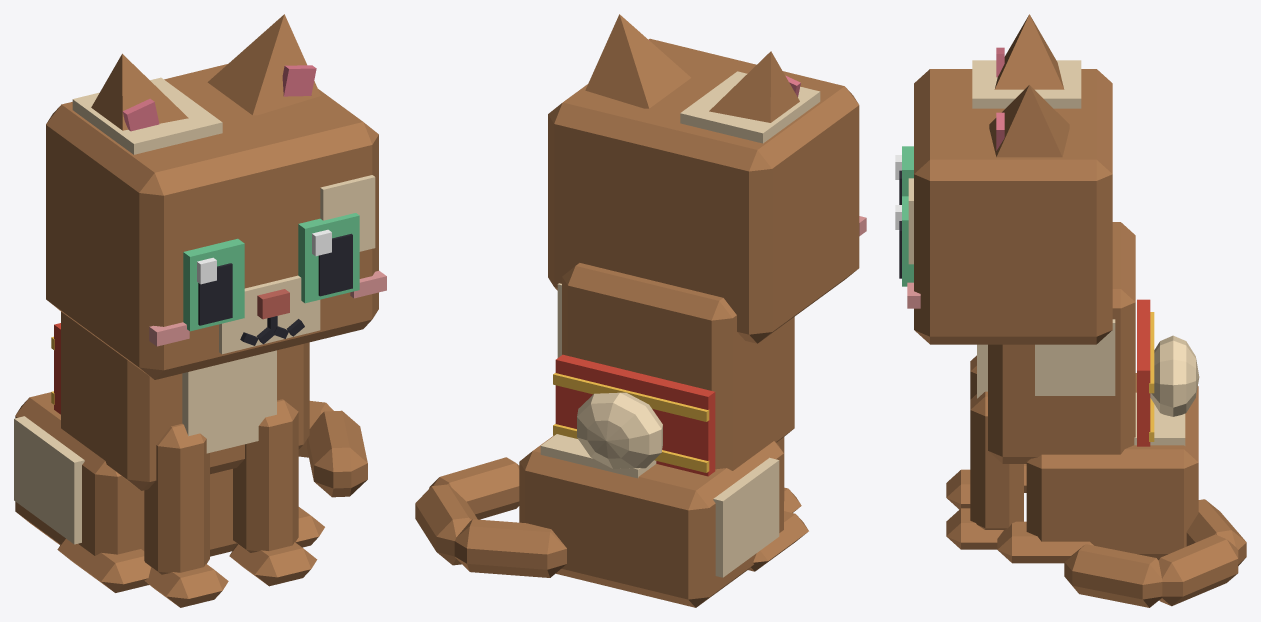
Rendered from CatCafe_Cat_Camel_Sit.glb.
3 renders of one model, left to right at view 1: azimuth 30°, elevation 25°; view 2: azimuth 150°, elevation 25°; view 3: azimuth 270°, elevation 25°, orthographic. The views are drawn at different scales.
Visible parts, largest first — view 1: CatCafe_Cat_Camel_Sit_Head, CatCafe_Cat_Camel_Sit_Body, CatCafe_Cat_Camel_Sit_LegF2, CatCafe_Cat_Camel_Sit_LegF1, CatCafe_Cat_Camel_Sit_EarL, CatCafe_Cat_Camel_Sit_Eye2, CatCafe_Cat_Camel_Sit_Eye1, CatCafe_Cat_Camel_Sit_Tail, CatCafe_Cat_Camel_Sit_EarR, CatCafe_Cat_Camel_Sit_Prop; view 2: CatCafe_Cat_Camel_Sit_Head, CatCafe_Cat_Camel_Sit_Body, CatCafe_Cat_Camel_Sit_Prop, CatCafe_Cat_Camel_Sit_Tail, CatCafe_Cat_Camel_Sit_EarL, CatCafe_Cat_Camel_Sit_EarR; view 3: CatCafe_Cat_Camel_Sit_Head, CatCafe_Cat_Camel_Sit_Body, CatCafe_Cat_Camel_Sit_Tail, CatCafe_Cat_Camel_Sit_LegF1, CatCafe_Cat_Camel_Sit_Prop, CatCafe_Cat_Camel_Sit_EarL, CatCafe_Cat_Camel_Sit_EarR, CatCafe_Cat_Camel_Sit_LegF2, CatCafe_Cat_Camel_Sit_Eye1, CatCafe_Cat_Camel_Sit_Eye2.
Part boxes in pixels (x1,y1,x2,y2): CatCafe_Cat_Camel_Sit_Head: (46, 64, 386, 379); CatCafe_Cat_Camel_Sit_Body: (14, 312, 324, 592); CatCafe_Cat_Camel_Sit_LegF2: (144, 423, 228, 607); CatCafe_Cat_Camel_Sit_LegF1: (229, 399, 317, 586); CatCafe_Cat_Camel_Sit_EarL: (207, 14, 320, 115); CatCafe_Cat_Camel_Sit_Eye2: (183, 238, 244, 331); CatCafe_Cat_Camel_Sit_Eye1: (298, 213, 359, 303); CatCafe_Cat_Camel_Sit_Tail: (298, 401, 367, 497); CatCafe_Cat_Camel_Sit_EarR: (91, 53, 188, 131); CatCafe_Cat_Camel_Sit_Prop: (51, 323, 60, 414); CatCafe_Cat_Camel_Sit_Head: (548, 38, 866, 343); CatCafe_Cat_Camel_Sit_Body: (519, 263, 808, 607); CatCafe_Cat_Camel_Sit_Prop: (553, 354, 715, 476); CatCafe_Cat_Camel_Sit_Tail: (415, 457, 566, 577); CatCafe_Cat_Camel_Sit_EarL: (585, 14, 690, 108); CatCafe_Cat_Camel_Sit_EarR: (709, 51, 800, 122); CatCafe_Cat_Camel_Sit_Head: (907, 60, 1112, 344); CatCafe_Cat_Camel_Sit_Body: (977, 222, 1198, 563); CatCafe_Cat_Camel_Sit_Tail: (1064, 499, 1246, 607); CatCafe_Cat_Camel_Sit_LegF1: (946, 391, 1023, 549); CatCafe_Cat_Camel_Sit_Prop: (1137, 299, 1199, 446); CatCafe_Cat_Camel_Sit_EarL: (989, 85, 1069, 157); CatCafe_Cat_Camel_Sit_EarR: (994, 14, 1064, 89); CatCafe_Cat_Camel_Sit_LegF2: (946, 355, 976, 509); CatCafe_Cat_Camel_Sit_Eye1: (895, 196, 913, 286); CatCafe_Cat_Camel_Sit_Eye2: (895, 146, 913, 204).
Size of the model in its own units: 1.24 by 1.85 by 1.24.
1 material, 1 textured.
